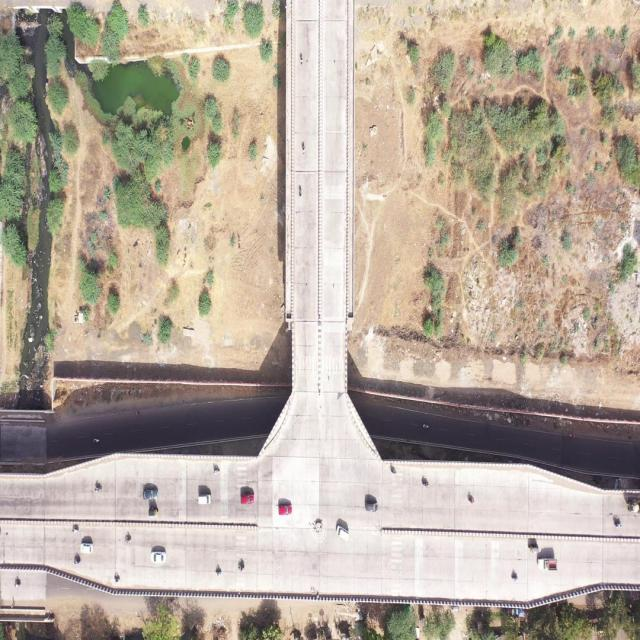3W: (146, 503, 162, 520), (527, 541, 541, 558)
Cars: (335, 518, 352, 550), (150, 546, 170, 568), (195, 489, 215, 509), (364, 496, 382, 518), (240, 490, 258, 510), (142, 484, 160, 502), (79, 540, 96, 558), (278, 501, 294, 518)
LCV: (537, 550, 562, 583)
M2W: (295, 48, 308, 72), (120, 527, 134, 548), (610, 513, 623, 532), (10, 575, 24, 592), (92, 478, 104, 497), (70, 552, 84, 568), (509, 570, 523, 583), (300, 138, 309, 158), (70, 522, 81, 538), (234, 560, 247, 573), (111, 570, 123, 584), (212, 464, 222, 479), (390, 464, 399, 479), (297, 180, 303, 202), (466, 494, 476, 507), (422, 477, 429, 490), (215, 568, 224, 578)
